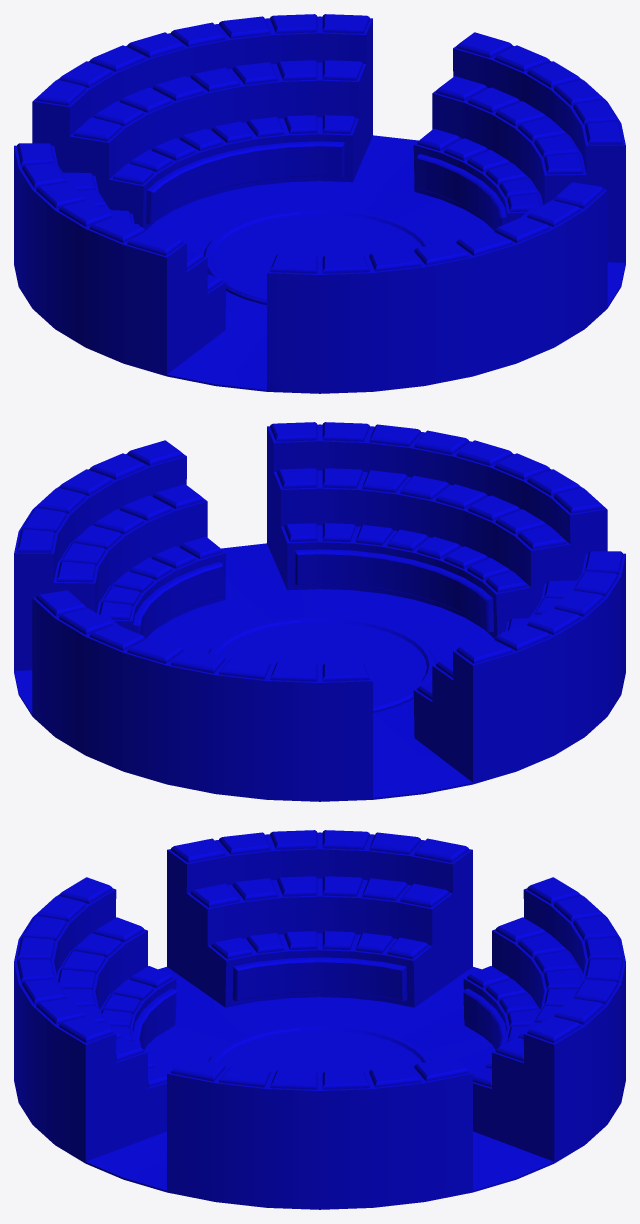
The model's file is Stage_DEF_2.fbx.
3 views of the same model, one above another, from view 1: azimuth 30°, elevation 25°; view 2: azimuth 150°, elevation 25°; view 3: azimuth 270°, elevation 25° (orthographic).
Parts seen in each view (by area): view 1: Stage_LP; view 2: Stage_LP; view 3: Stage_LP.
Boxes of the visible parts, <box> form: Stage_LP: <box>14,14,625,393</box>; Stage_LP: <box>14,422,625,801</box>; Stage_LP: <box>14,830,625,1209</box>.
Bounding box in the file's own units: 2613 × 582 × 2613.
